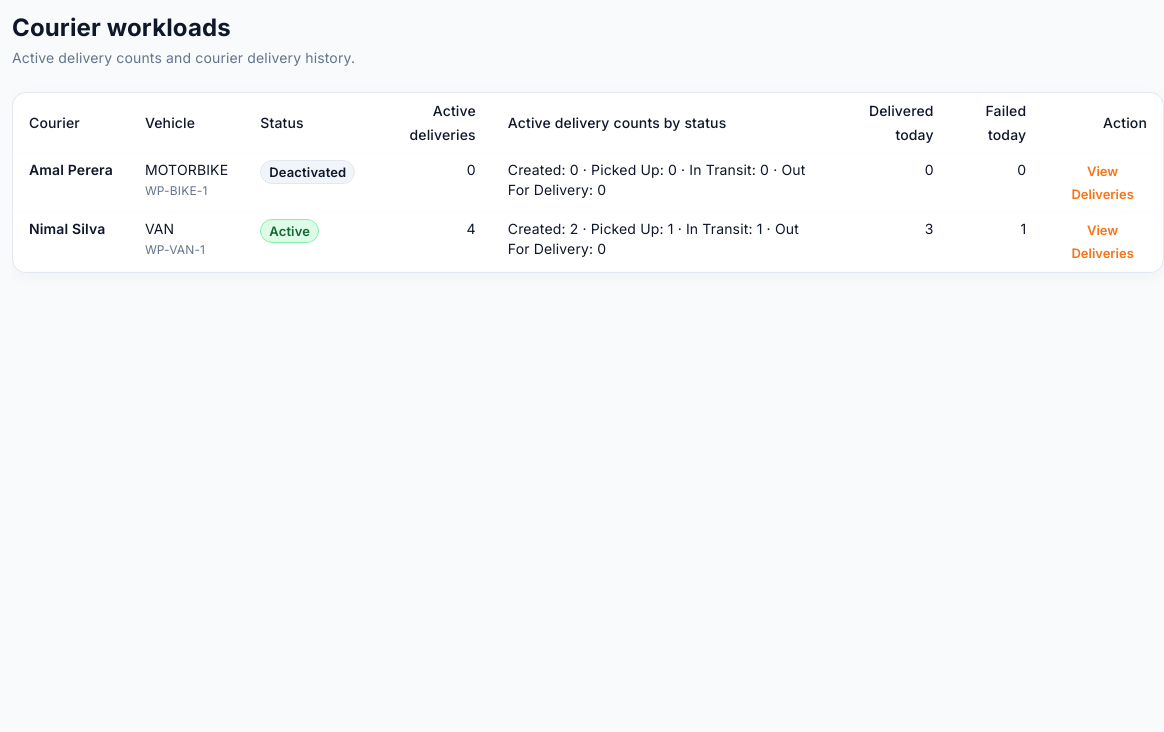
Test case: TST-040 Member #7 courier workloads › loads each delivery scope using the selected courier id and resets pagination when scope changes
Later steps or results of the test are not shown.
Click the button with aria-label "View deliveries for Nimal Silva": [1103, 242] box [1058,219,1147,265]
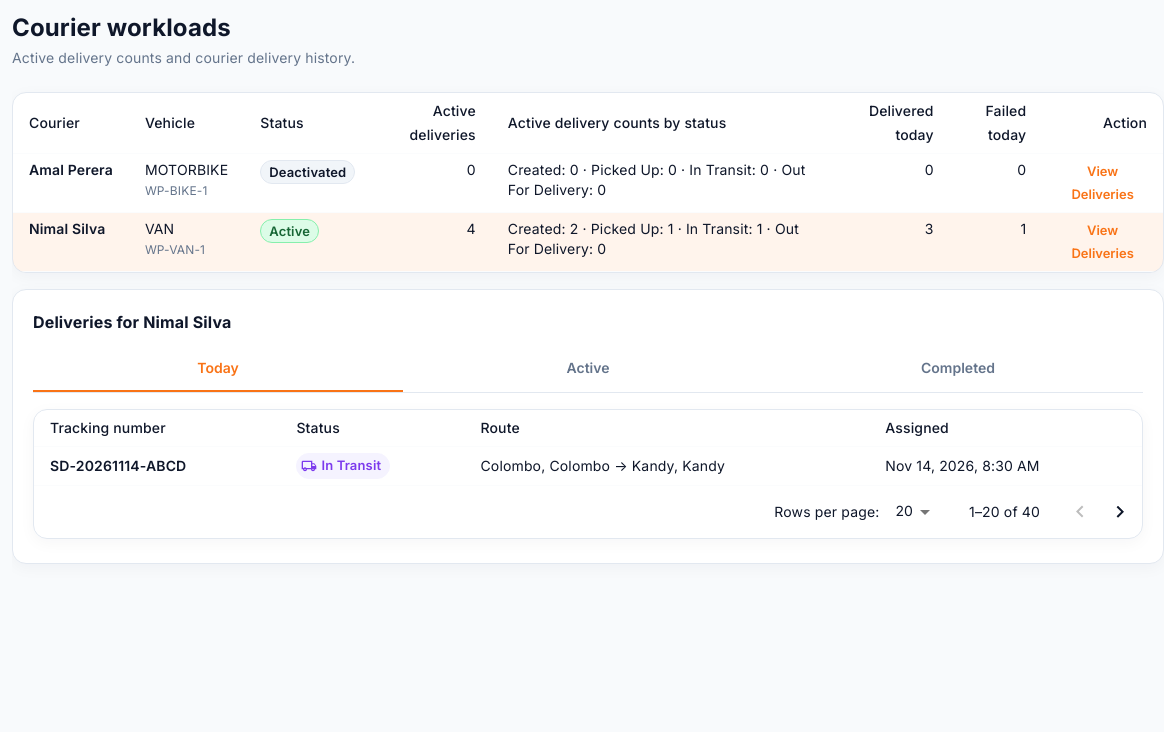
expect the table named "today deliveries for Nimal Silva" is shown: met, box [34,410,1142,486]
